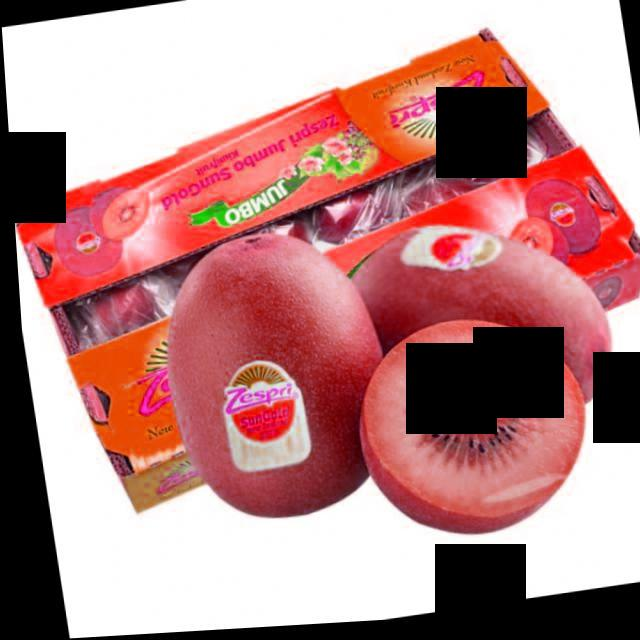kiwi: (139, 220, 378, 540), (332, 209, 614, 465)
